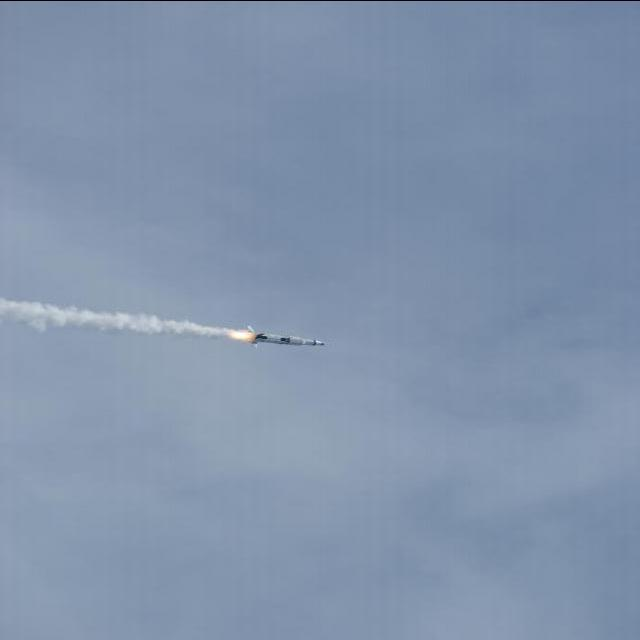missile: (244, 328, 328, 350)
